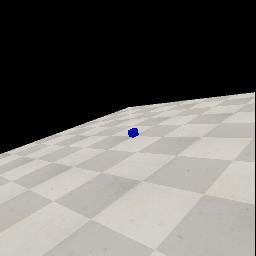box: (128, 128, 139, 138)
